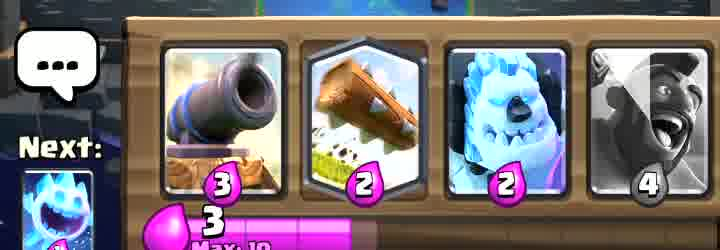hog-rider: (585, 64, 680, 203)
ice-golem: (447, 52, 561, 198)
ice-spirit: (25, 171, 94, 250)
log: (310, 43, 423, 191)
